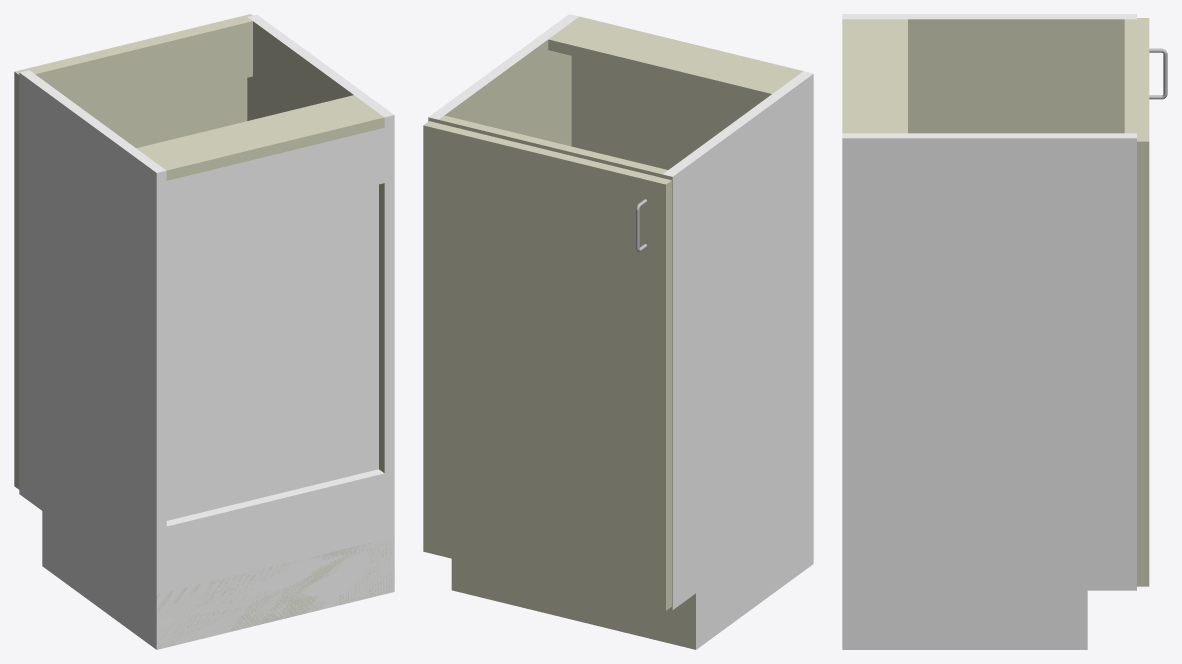
3 renders of one model, left to right at view 1: azimuth 30°, elevation 25°; view 2: azimuth 150°, elevation 25°; view 3: azimuth 270°, elevation 25°, orthographic. The views are drawn at different scales.
Visible parts, largest first — view 1: mesh6_mesh6-geometry, mesh1_mesh1-geometry, mesh8_mesh8-geometry, mesh21_mesh21-geometry, mesh13_mesh13-geometry, mesh10_mesh10-geometry, mesh15_mesh15-geometry, mesh34_mesh34-geometry, mesh17_mesh17-geometry, mesh20_mesh20-geometry, mesh2_mesh2-geometry, mesh4_mesh4-geometry; view 2: mesh34_mesh34-geometry, mesh1_mesh1-geometry, mesh6_mesh6-geometry, mesh17_mesh17-geometry, mesh13_mesh13-geometry, mesh21_mesh21-geometry, mesh20_mesh20-geometry, mesh15_mesh15-geometry, mesh2_mesh2-geometry; view 3: mesh12_mesh12-geometry, mesh2_mesh2-geometry, mesh19_mesh19-geometry, mesh17_mesh17-geometry, mesh34_mesh34-geometry, mesh13_mesh13-geometry, mesh15_mesh15-geometry.
Boxes of the visible parts, left/top/right/bottom form: mesh6_mesh6-geometry: left=166, top=184, right=378, bottom=520; mesh1_mesh1-geometry: left=19, top=72, right=156, bottom=594; mesh8_mesh8-geometry: left=166, top=469, right=384, bottom=581; mesh21_mesh21-geometry: left=156, top=536, right=394, bottom=649; mesh13_mesh13-geometry: left=247, top=14, right=394, bottom=538; mesh10_mesh10-geometry: left=166, top=128, right=384, bottom=235; mesh15_mesh15-geometry: left=29, top=17, right=252, bottom=115; mesh34_mesh34-geometry: left=14, top=14, right=252, bottom=489; mesh17_mesh17-geometry: left=136, top=95, right=384, bottom=180; mesh20_mesh20-geometry: left=42, top=511, right=156, bottom=649; mesh2_mesh2-geometry: left=20, top=70, right=166, bottom=594; mesh4_mesh4-geometry: left=166, top=529, right=384, bottom=591; mesh34_mesh34-geometry: left=423, top=121, right=671, bottom=610; mesh1_mesh1-geometry: left=672, top=74, right=813, bottom=609; mesh6_mesh6-geometry: left=571, top=56, right=760, bottom=169; mesh17_mesh17-geometry: left=548, top=16, right=803, bottom=101; mesh13_mesh13-geometry: left=428, top=14, right=579, bottom=146; mesh21_mesh21-geometry: left=451, top=559, right=695, bottom=649; mesh20_mesh20-geometry: left=696, top=507, right=813, bottom=649; mesh15_mesh15-geometry: left=438, top=115, right=667, bottom=177; mesh2_mesh2-geometry: left=662, top=71, right=813, bottom=610; mesh12_mesh12-geometry: left=842, top=138, right=1136, bottom=590; mesh2_mesh2-geometry: left=842, top=14, right=1136, bottom=133; mesh19_mesh19-geometry: left=842, top=590, right=1087, bottom=649; mesh17_mesh17-geometry: left=842, top=19, right=907, bottom=133; mesh34_mesh34-geometry: left=1137, top=18, right=1149, bottom=586; mesh13_mesh13-geometry: left=842, top=133, right=1136, bottom=138; mesh15_mesh15-geometry: left=1124, top=19, right=1136, bottom=133.
Bounding box in the file's own units: 0.4119 × 0.7896 × 0.4549.
